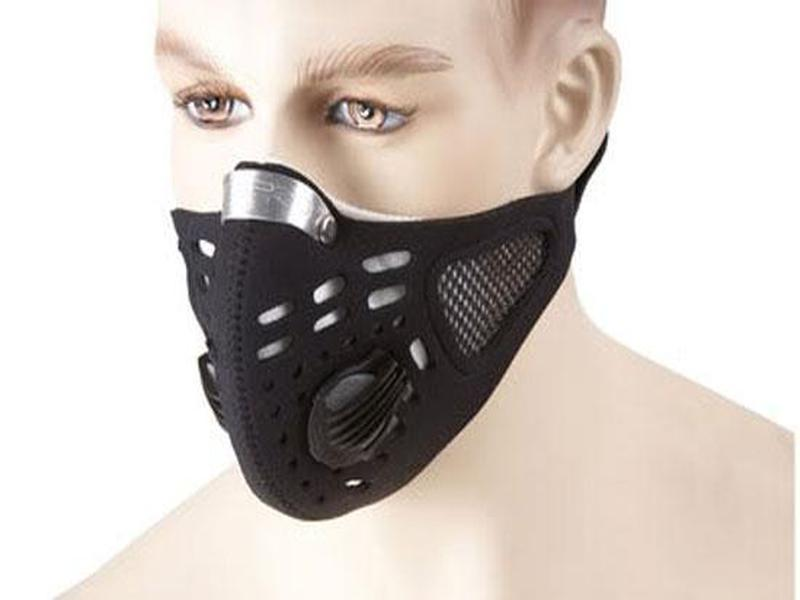with_mask: (152, 1, 626, 524)
